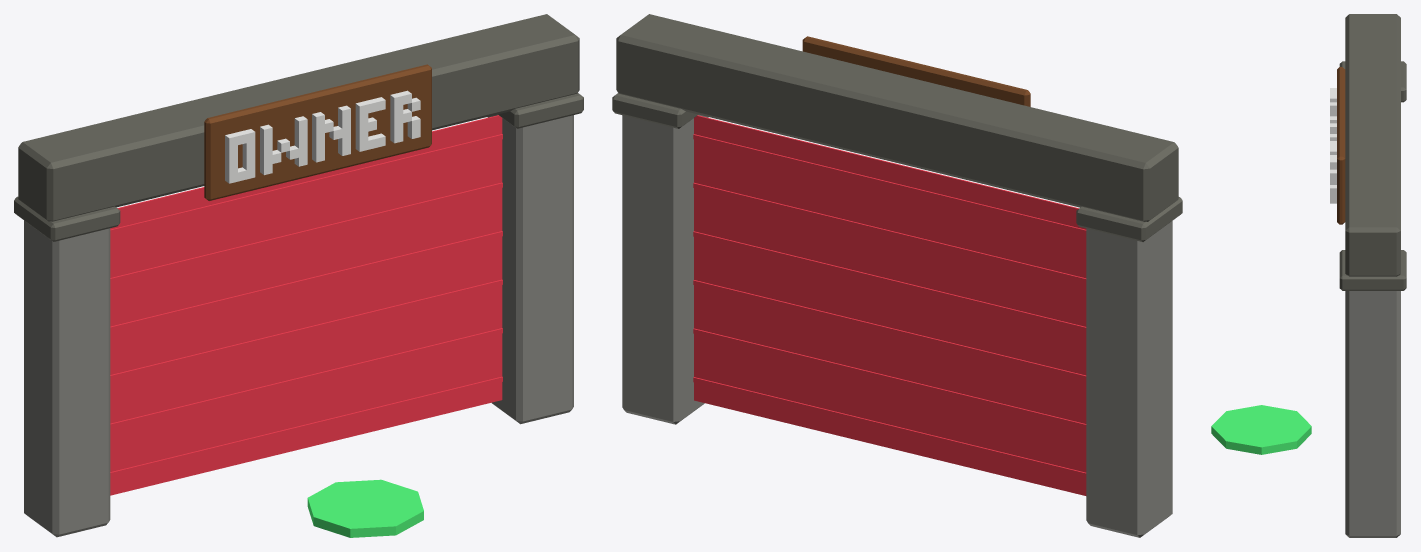
File: OwnerDoor.fbx
The picture shows the model from 3 angles, left to right: view 1: azimuth 30°, elevation 25°; view 2: azimuth 150°, elevation 25°; view 3: azimuth 270°, elevation 25°; orthographic projection. The views are drawn at different scales.
Parts seen in each view (by area): view 1: OwnerDoor_Laser, OwnerDoor; view 2: OwnerDoor_Laser, OwnerDoor; view 3: OwnerDoor.
Part boxes in pixels (x1=…): OwnerDoor_Laser: x1=110, y1=115, x2=502, y2=495; OwnerDoor: x1=14, y1=14, x2=583, y2=537; OwnerDoor_Laser: x1=693, y1=115, x2=1086, y2=495; OwnerDoor: x1=612, y1=14, x2=1182, y2=537; OwnerDoor: x1=1211, y1=14, x2=1406, y2=537.
Bounding box in the file's own units: 18.4 × 12.75 × 7.
Materials: 1 (1 with a texture image).
